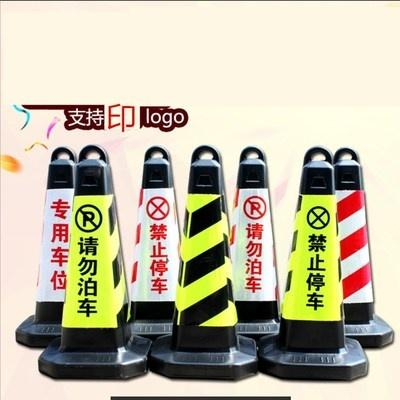cone_barrel: (265, 150, 367, 368), (156, 148, 250, 372), (46, 157, 143, 373), (19, 144, 83, 335), (122, 149, 183, 329), (331, 150, 387, 334), (226, 148, 282, 330)
